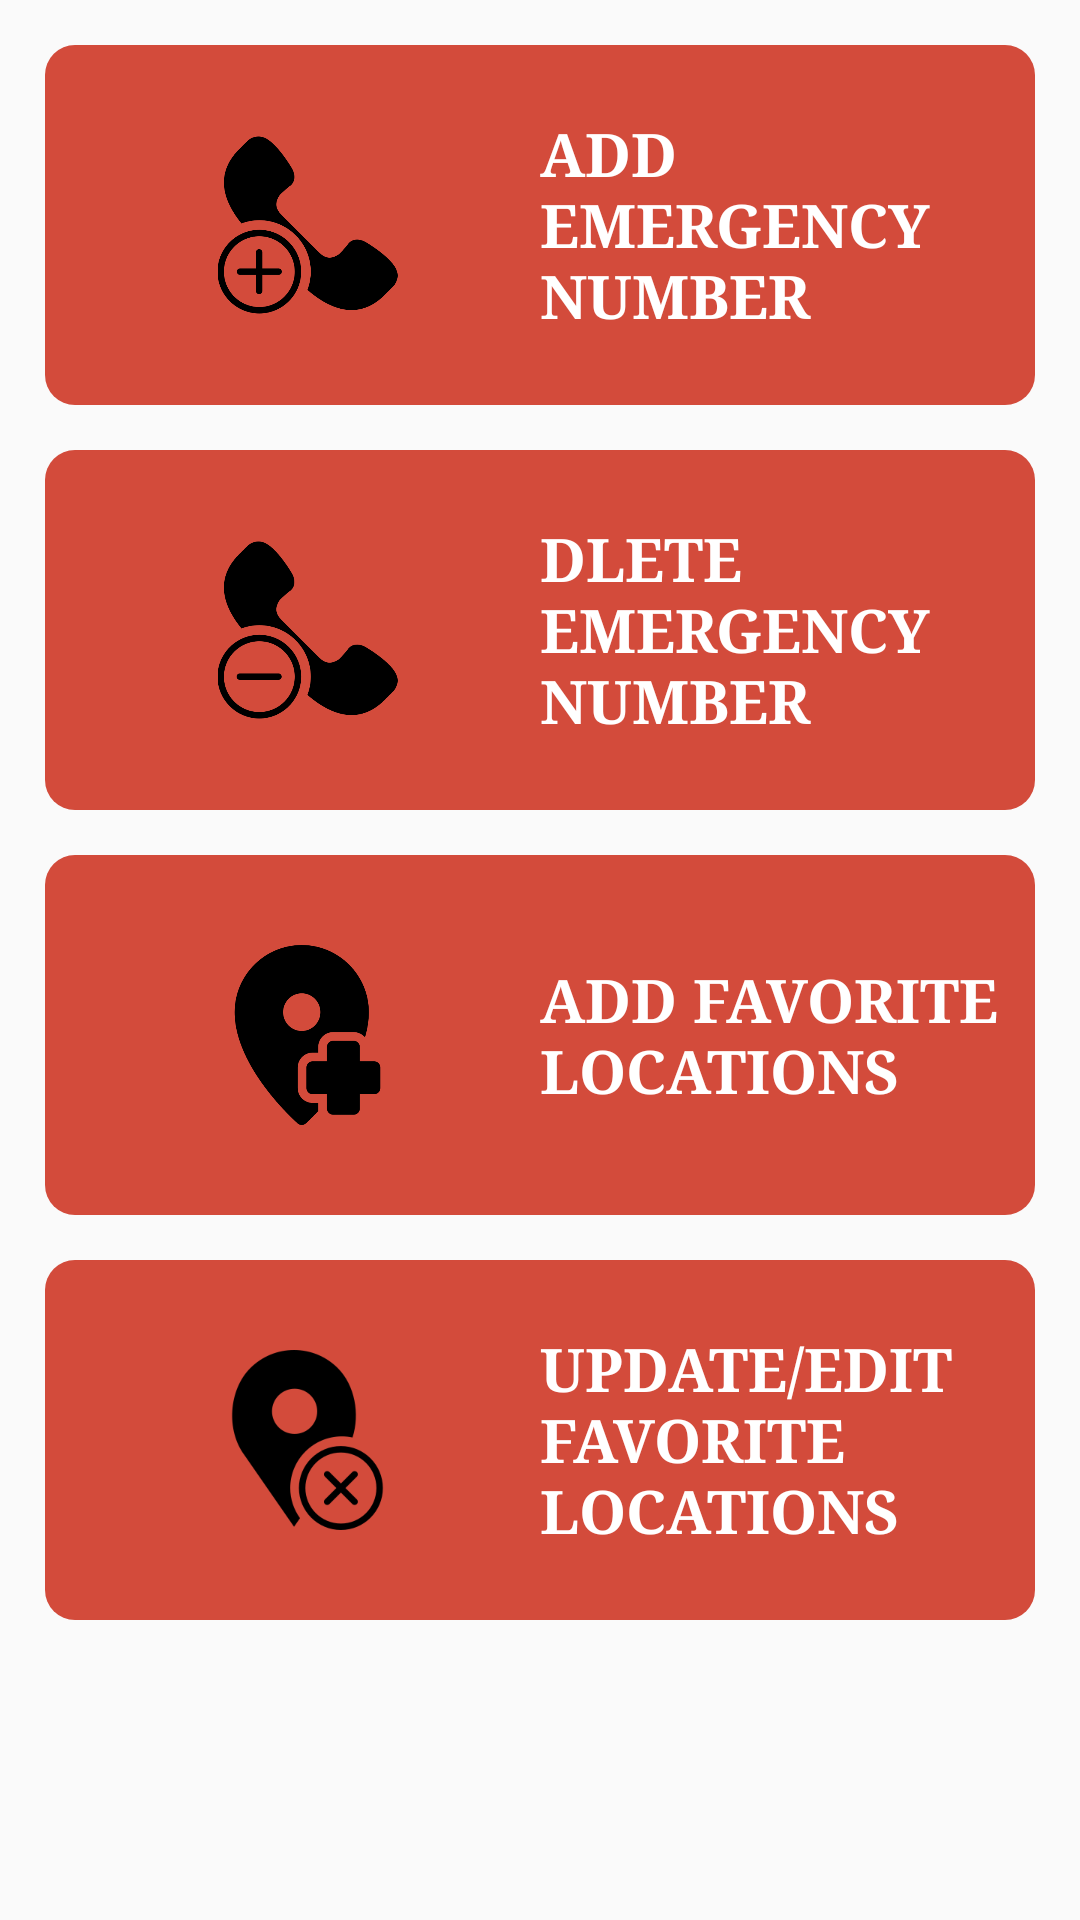

Icons on this 1080x1920 Android screen, each with the point to tap as point (x, y):
addloc: point (307, 1035)
addnumber: point (308, 225)
dletenum: point (308, 630)
removeloc: point (307, 1440)
